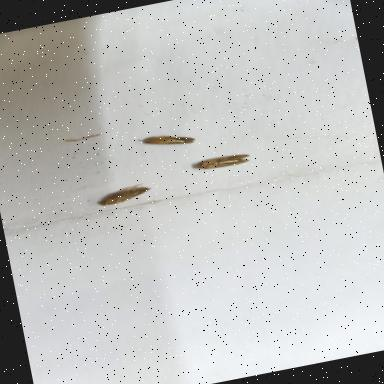pbw: (140, 126, 203, 160), (94, 182, 152, 210), (192, 150, 252, 176)
